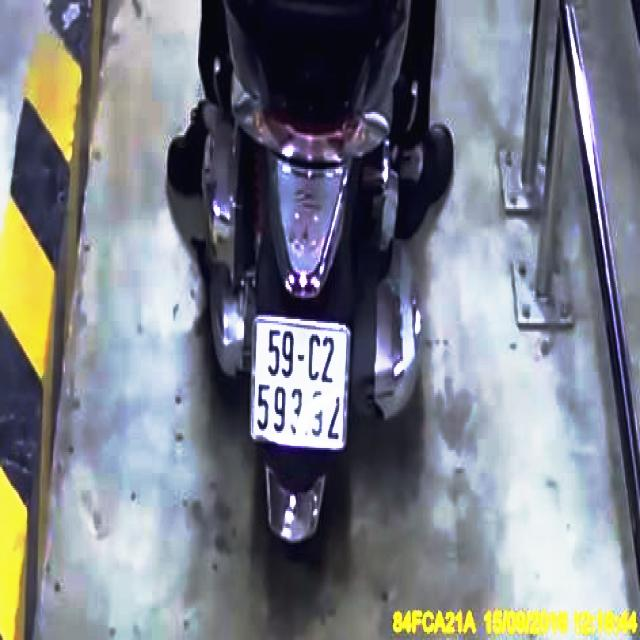license_plate: (250, 318, 349, 454)
